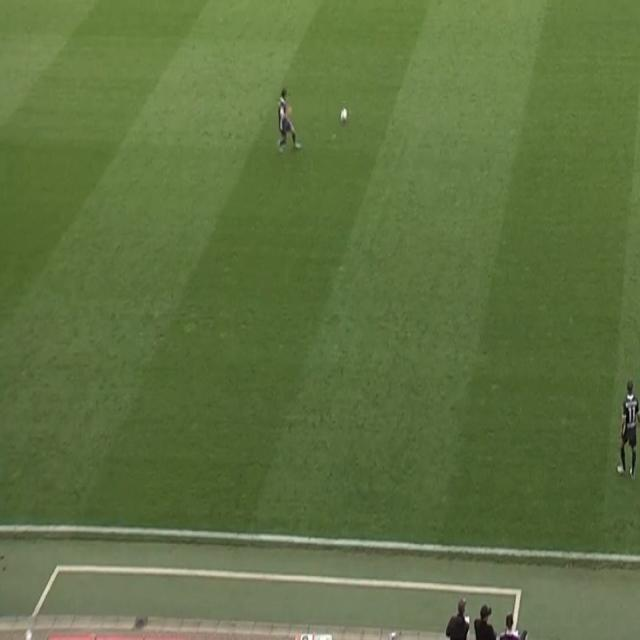ball: (338, 106, 349, 128)
